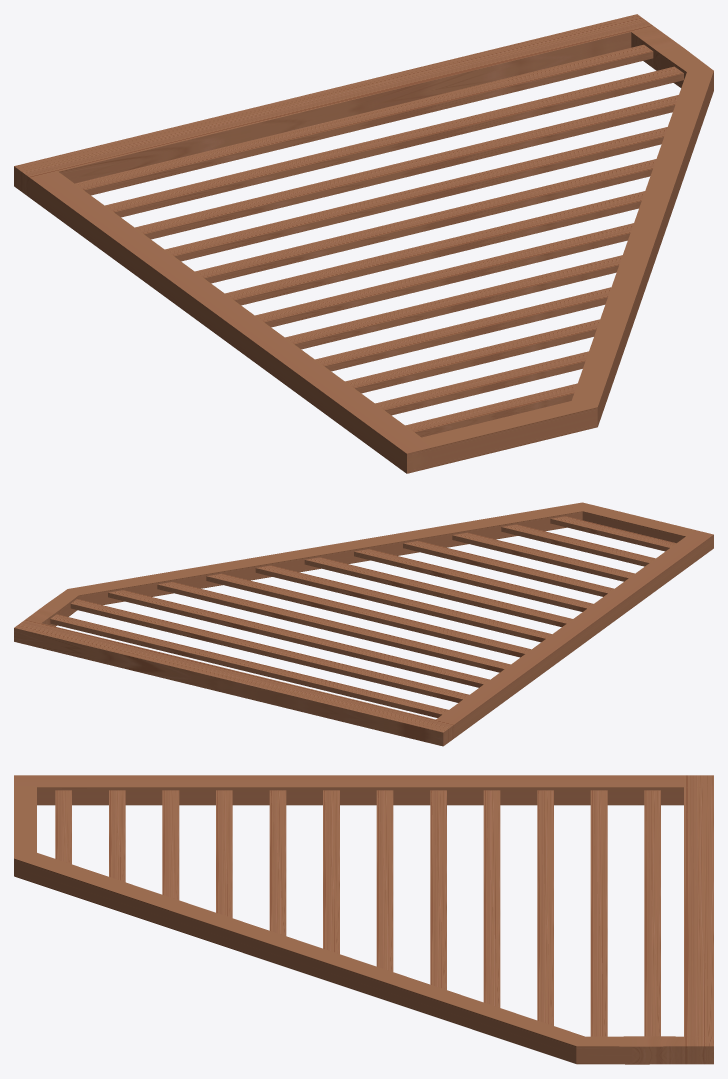
File: wood-ceiling.gltf
The picture shows the model from 3 angles, top to bottom: view 1: azimuth 30°, elevation 25°; view 2: azimuth 150°, elevation 25°; view 3: azimuth 270°, elevation 25°; orthographic projection. The views are drawn at different scales.
Visible parts, largest first — view 1: Cube.001; view 2: Cube.001; view 3: Cube.001.
Part boxes in pixels (box(x1,y1,x2,y2)): Cube.001: box(14, 14, 713, 473); Cube.001: box(14, 502, 713, 746); Cube.001: box(14, 775, 713, 1064).
Bounding box in the file's own units: 1.48 × 0.0457 × 1.62.
1 material, 1 textured.
